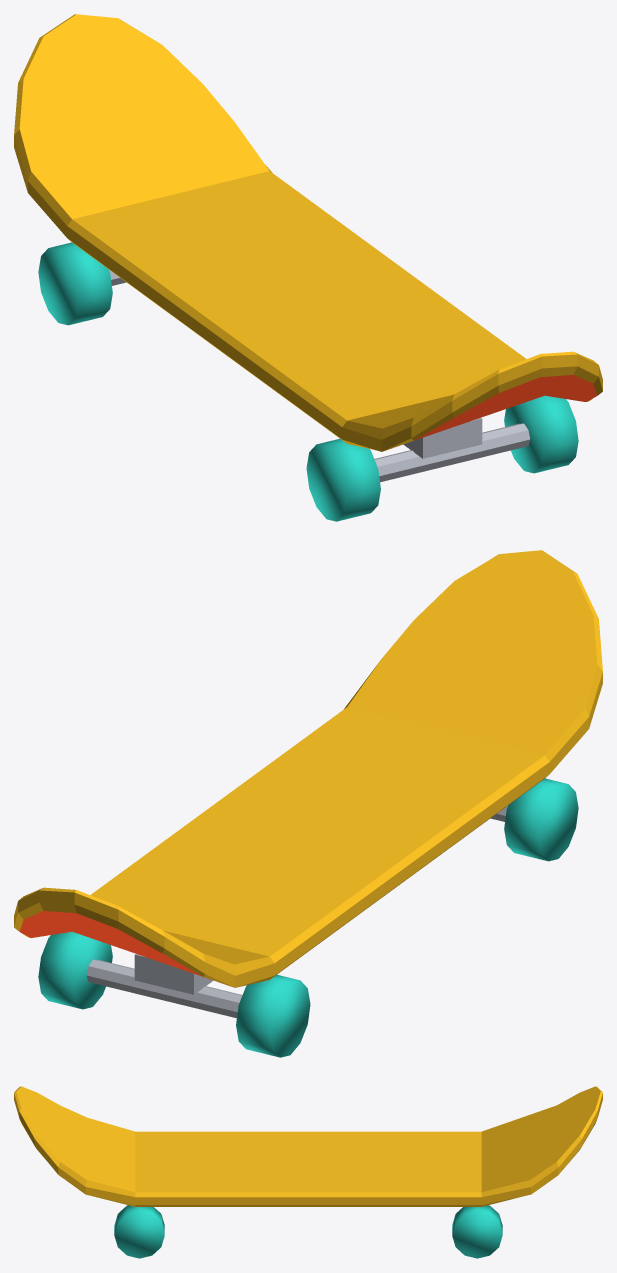
The model's file is kaykay.glb.
3 renders of one model, top to bottom at view 1: azimuth 30°, elevation 25°; view 2: azimuth 150°, elevation 25°; view 3: azimuth 270°, elevation 25°, orthographic. The views are drawn at different scales.
Visible parts, largest first — view 1: kaykay; view 2: kaykay; view 3: kaykay.
Part boxes in pixels (<box>): kaykay: <box>14,14,602,521</box>; kaykay: <box>14,550,602,1057</box>; kaykay: <box>14,1086,602,1258</box>.
Size of the model in its own units: 0.2786 by 0.2393 by 0.9717.
